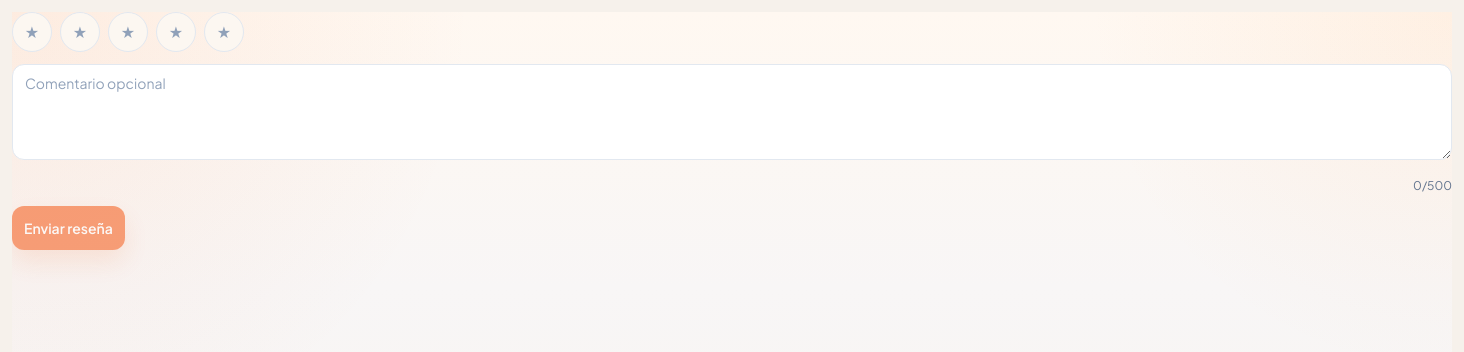
it: ReviewComposer › shows submission errors and keeps the form available for retry
Step 1. Click the button named "calificar con 5" → (224, 32), box [204, 12, 244, 52]
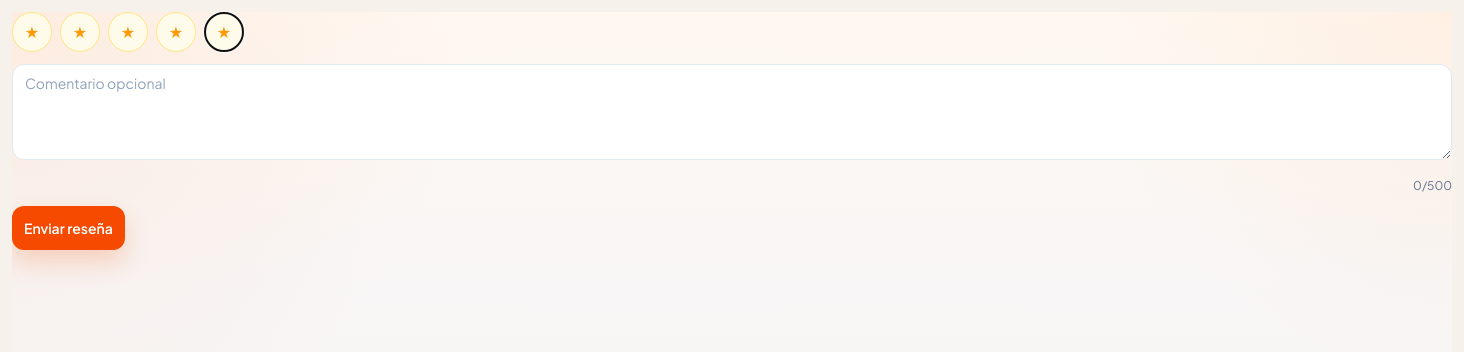
Step 2. Type "Excellent" into the text box → (732, 112), box [12, 64, 1452, 160]
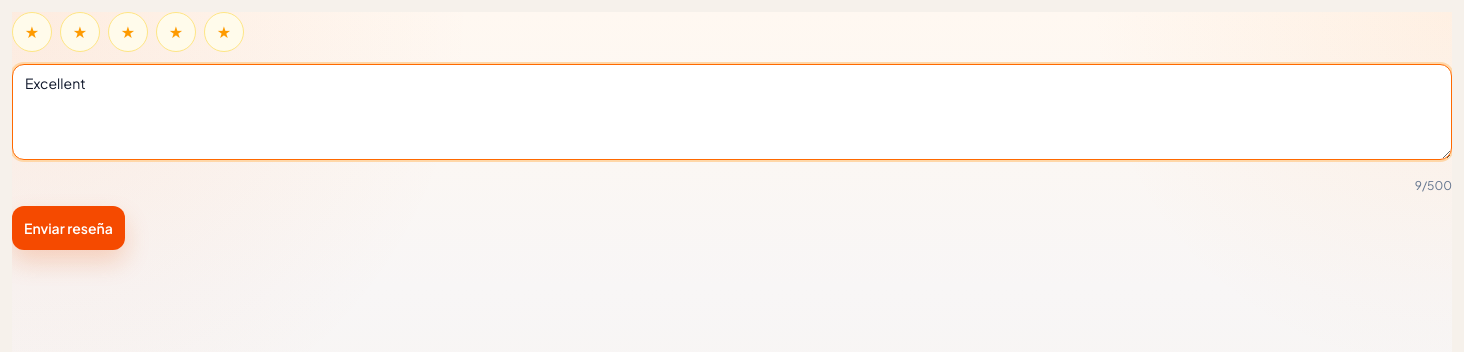
Step 3. Click the button "Enviar reseña" → (68, 228), box [12, 206, 125, 250]
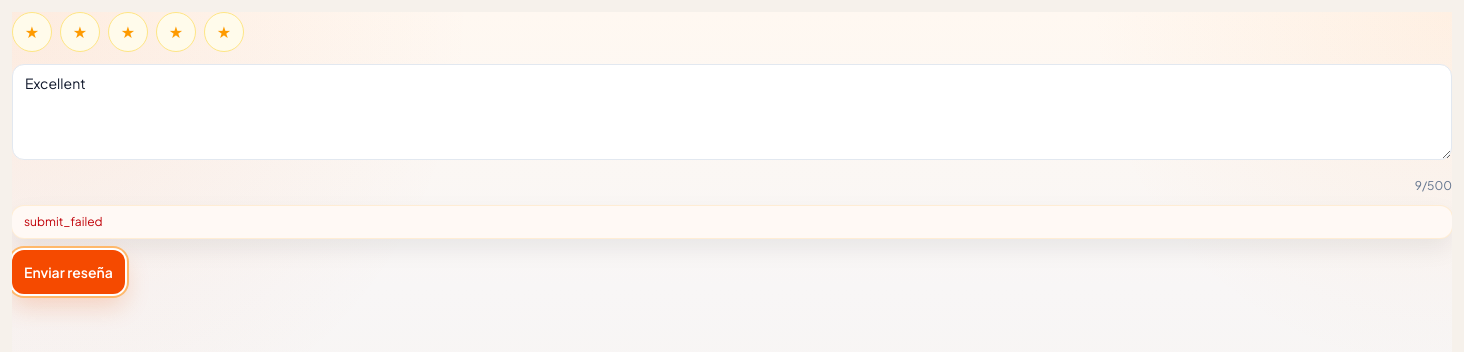
Result: the button "Enviar reseña" is enabled at [12, 250, 125, 294]
Result: the text "submit_failed" is shown at [12, 206, 1452, 238]
